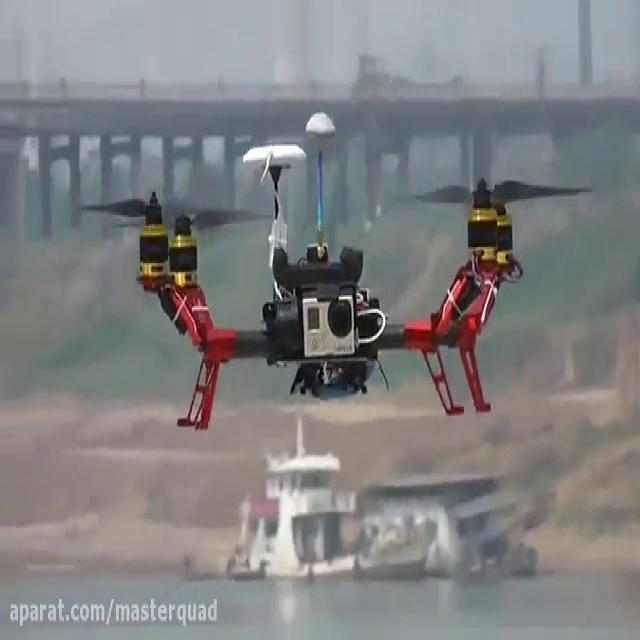drone: (76, 103, 597, 432)
